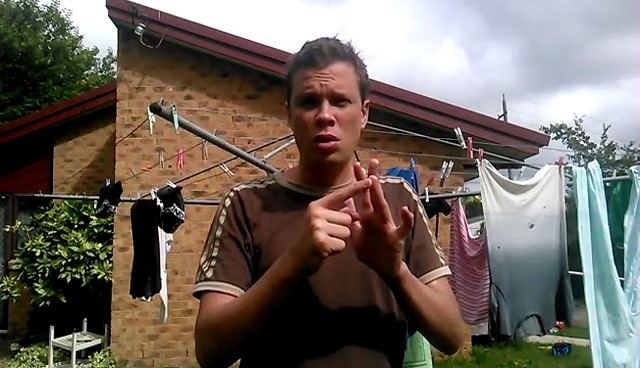O: (271, 155, 418, 282)
